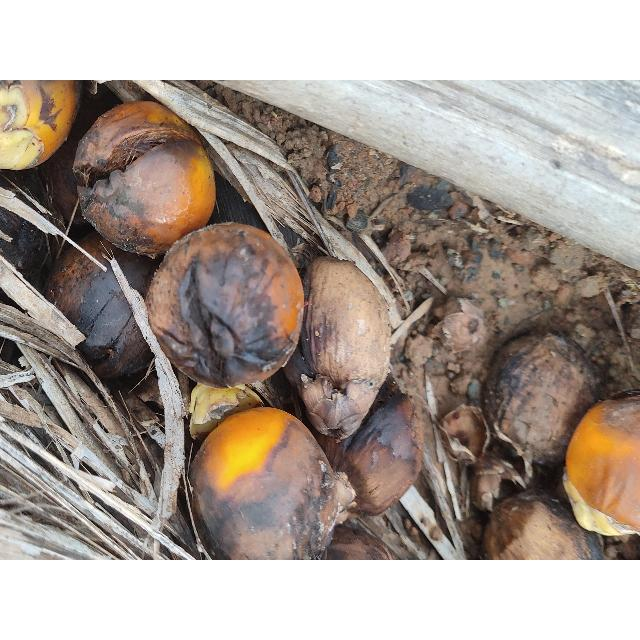damaged: (146, 223, 300, 387), (72, 101, 216, 256), (194, 408, 338, 560), (481, 332, 604, 466), (44, 232, 160, 374), (286, 262, 379, 434), (34, 90, 112, 228), (333, 391, 417, 513), (0, 80, 78, 170), (0, 166, 58, 286)
